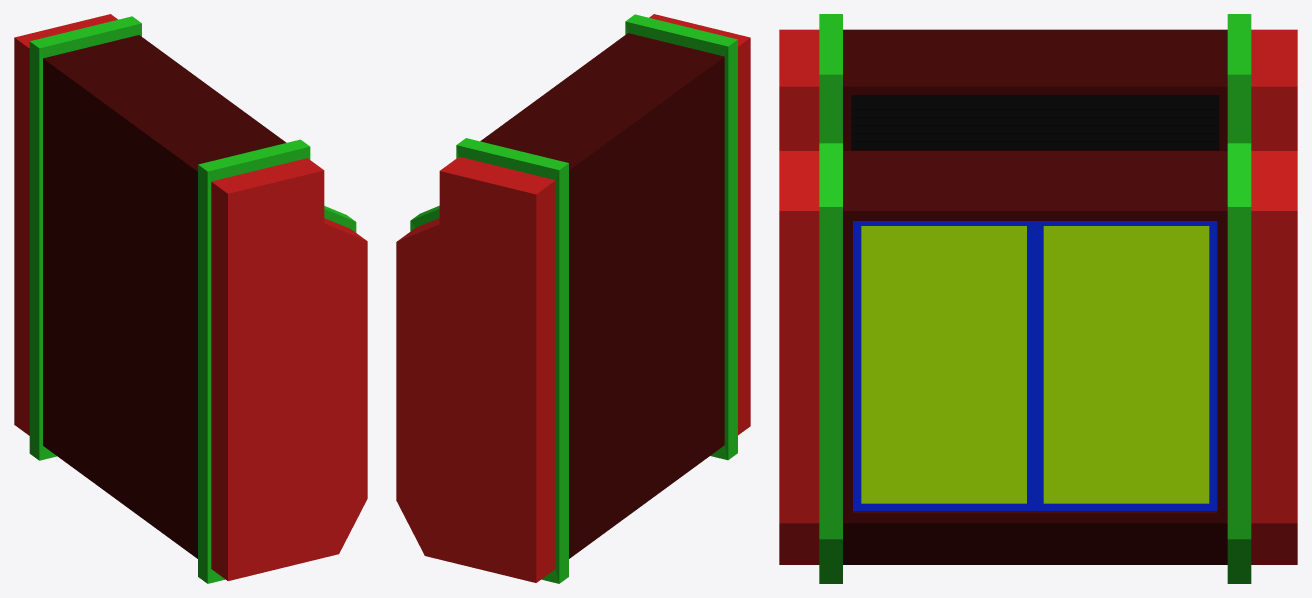
File: Storage_Substance.fbx
3 views of the same model, side by side, from view 1: azimuth 30°, elevation 25°; view 2: azimuth 150°, elevation 25°; view 3: azimuth 270°, elevation 25° (orthographic). The views are drawn at different scales.
Visible parts, largest first — view 1: Storage (×3); view 2: Storage (×3); view 3: Storage (×4), Door_1 (×2), Door_2 (×2).
Boxes of the visible parts, x1,y1,x2,y2 form: Storage (×3): (14,14,367,583); Storage (×3): (396,14,750,583); Storage (×4): (779,14,1297,583); Door_1 (×2): (1035,221,1217,510); Door_2 (×2): (853,221,1035,510).
Bounding box in the file's own units: 161 × 426 × 400.
